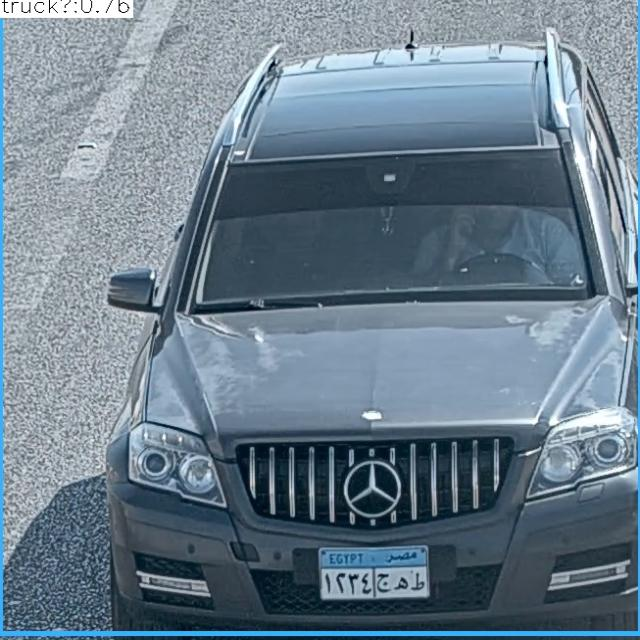windshield: (192, 143, 598, 314)
